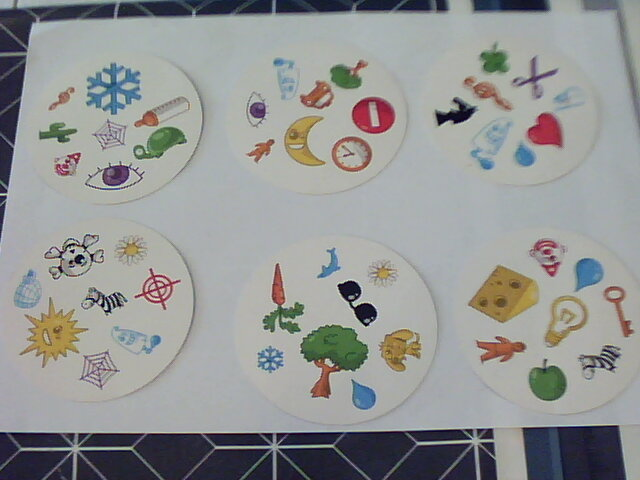ampoule: (543, 294, 589, 351)
arbre: (298, 322, 370, 402), (326, 58, 372, 92)
biberon: (131, 92, 192, 129)
bonhomme: (474, 333, 527, 368), (243, 137, 278, 166)
bonhomme_neige: (550, 79, 591, 118)
cactus: (34, 119, 79, 147)
carotte: (258, 258, 308, 340)
cheval: (434, 95, 476, 128)
chien: (377, 327, 426, 374)
cible: (135, 266, 183, 312)
ciseau: (513, 53, 561, 106)
cle: (600, 284, 638, 339)
clown: (528, 229, 566, 283), (50, 148, 84, 183)
coeur: (526, 109, 573, 153)
dauphin: (312, 243, 344, 283)
fantome: (464, 113, 516, 176), (271, 57, 301, 101)
fleur: (113, 232, 151, 271), (364, 257, 400, 290)
flocon: (83, 61, 144, 118), (254, 345, 289, 373)
fntome: (107, 322, 165, 362)
fromage: (464, 261, 543, 326)
goutte: (570, 255, 607, 298), (349, 373, 378, 413), (509, 137, 538, 171)
horloge: (331, 134, 373, 174)
igloo: (11, 267, 45, 313)
lune: (280, 113, 329, 172)
lunette: (337, 275, 379, 329)
note: (459, 72, 521, 117), (44, 83, 76, 114)
oeuil: (83, 157, 147, 193), (243, 88, 272, 129)
pomme: (525, 354, 569, 406)
sens_interdit: (346, 94, 398, 138)
soleil: (18, 298, 90, 368)
tete_mort: (42, 231, 108, 282)
toile: (77, 347, 122, 394), (92, 117, 128, 151)
tortue: (130, 125, 190, 162)
trefle: (476, 38, 518, 78)
voiture: (295, 77, 337, 112)
zebre: (577, 339, 624, 385), (79, 283, 131, 320)
